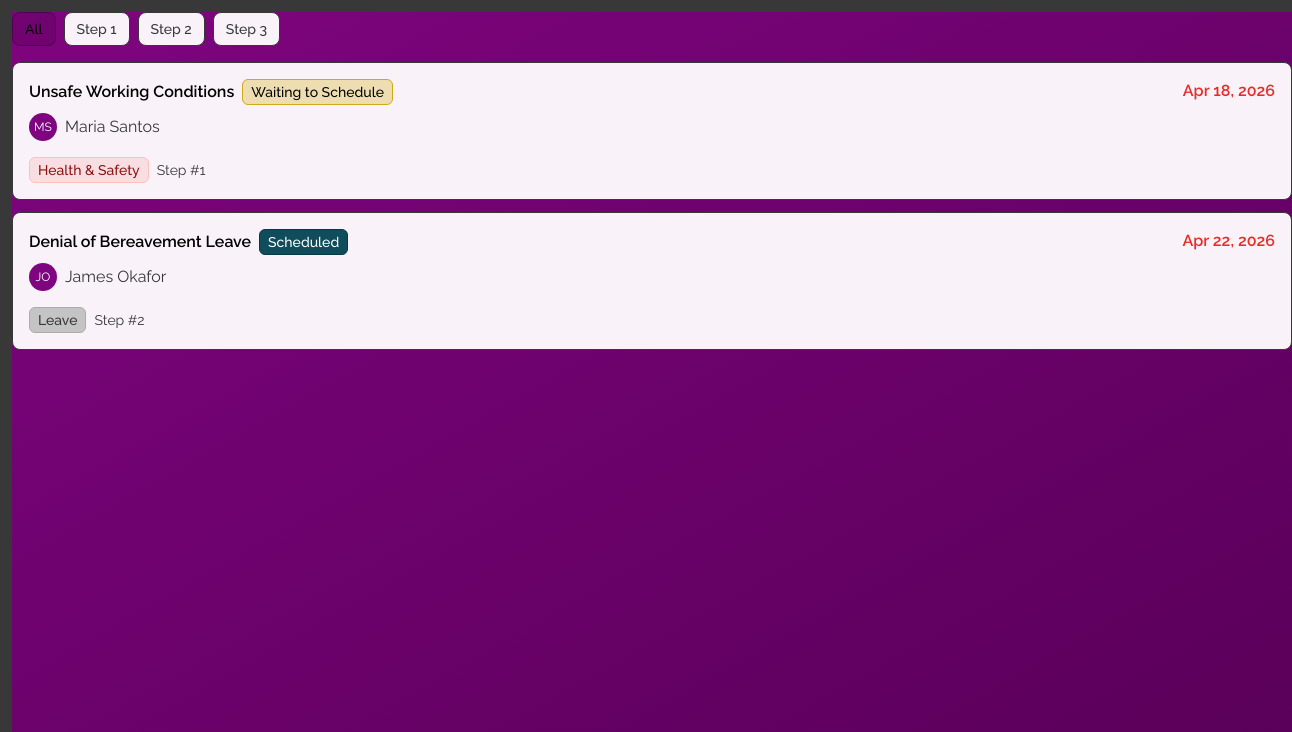
Test: StepFilterView › shows all grievances again after clicking All
Click the button "Step 1" at {"x": 97, "y": 29}, box [64, 12, 130, 46]
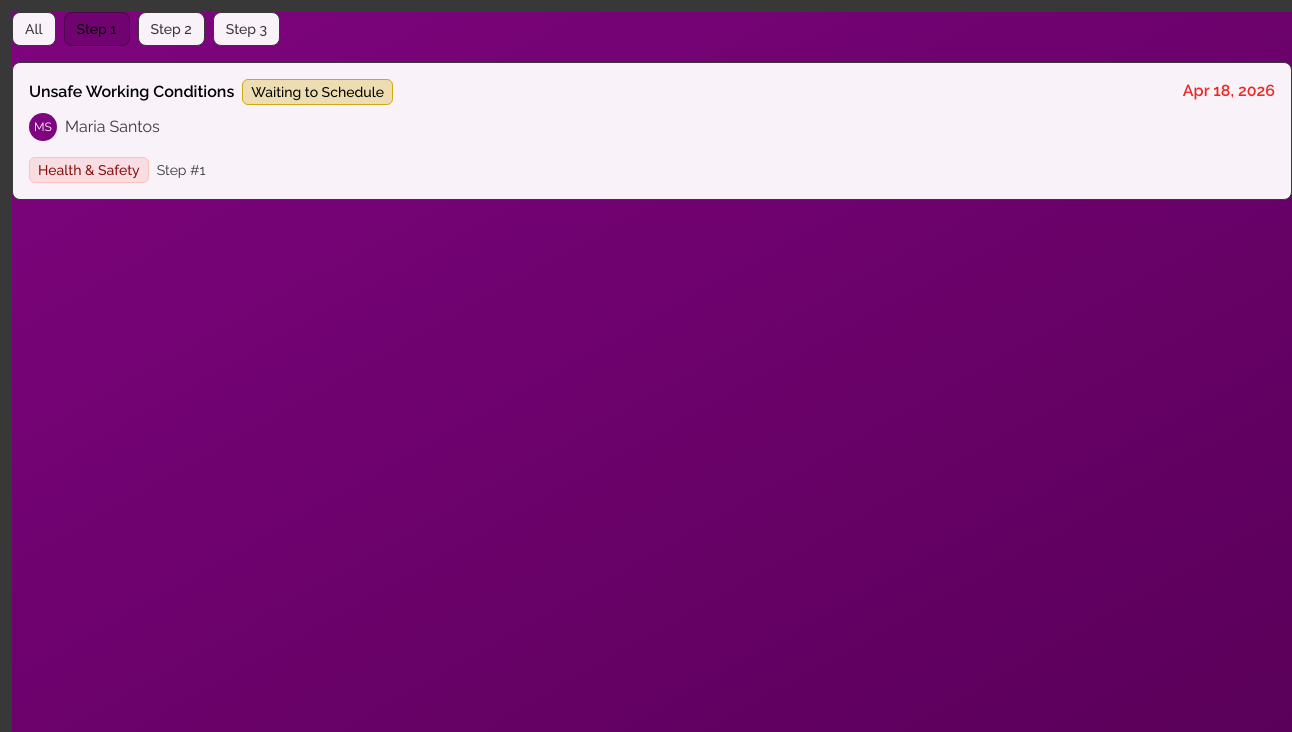
Click the button "All" at {"x": 34, "y": 29}, box [12, 12, 56, 46]
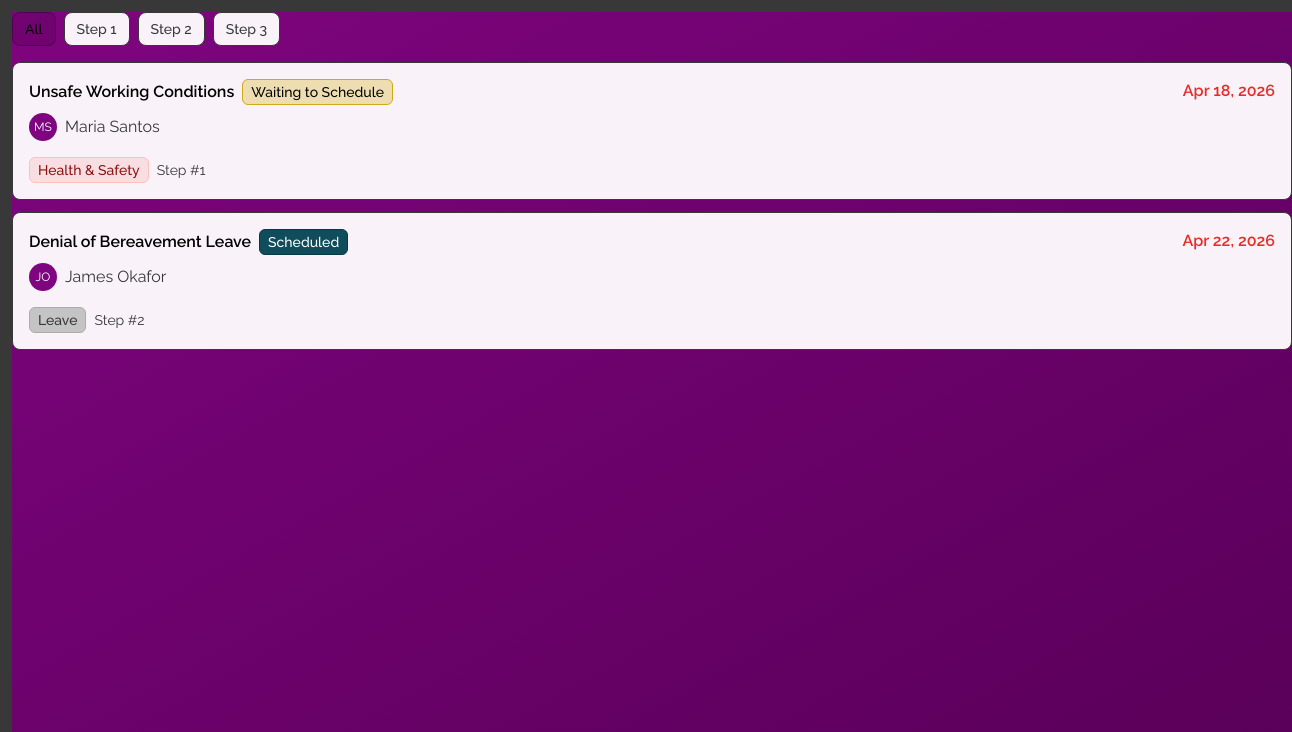
Expected: the heading "Unsafe Working Conditions" is shown, [29, 80, 234, 104]
Now the heading "Denial of Bereavement Leave" is shown, box [29, 230, 251, 254]
